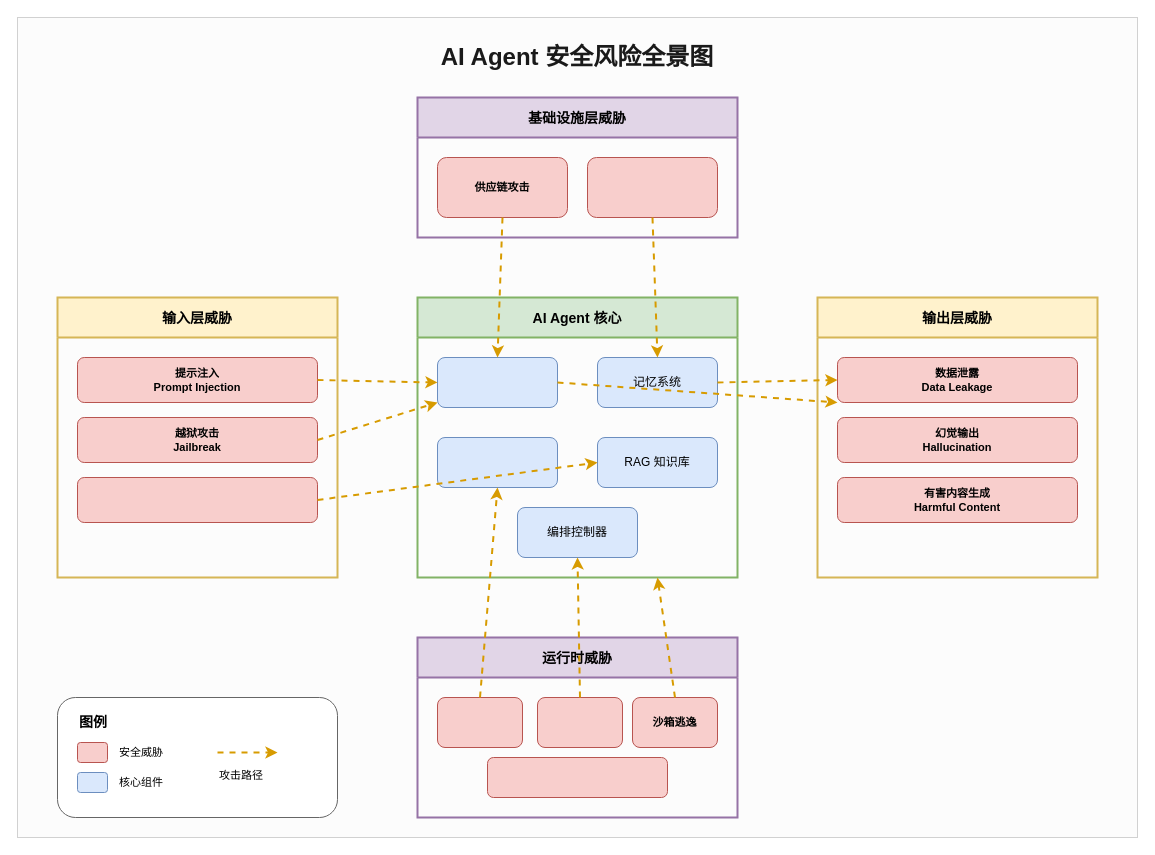
This 1155x855 diagram has some shape labels left out. The centre of each missing label's shape, as x and y in pixels:
LLM 推理引擎: point (497, 382)
工具滥用: point (579, 722)
工具调用层: point (497, 462)
数据投毒 Data Poisoning: point (197, 499)
权限提升: point (479, 722)
模型漏洞: point (652, 187)
资源耗尽 DoS: point (577, 777)
